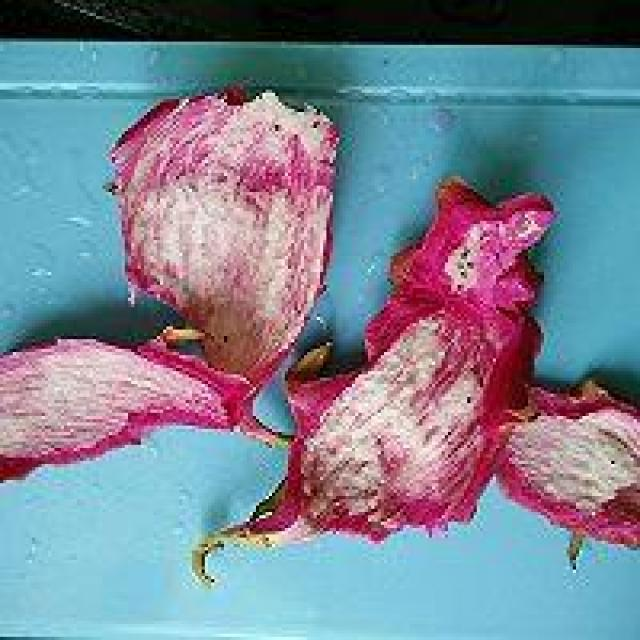Wet: (3, 80, 637, 579)
